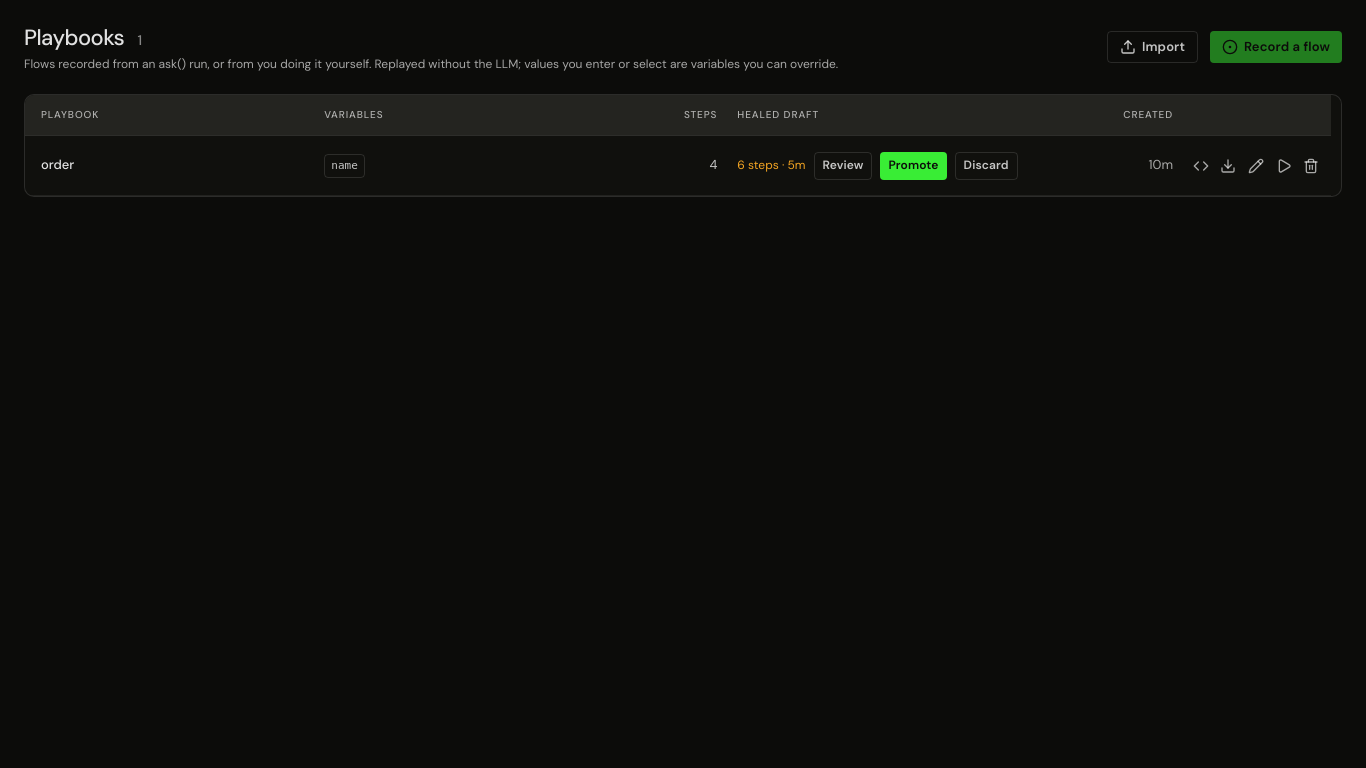
Test: PlaybooksTab › a failed rename keeps the dialog open and says why
Click the button named "Rename order". click: (1256, 166)
box: 1244,150 -> 1268,182
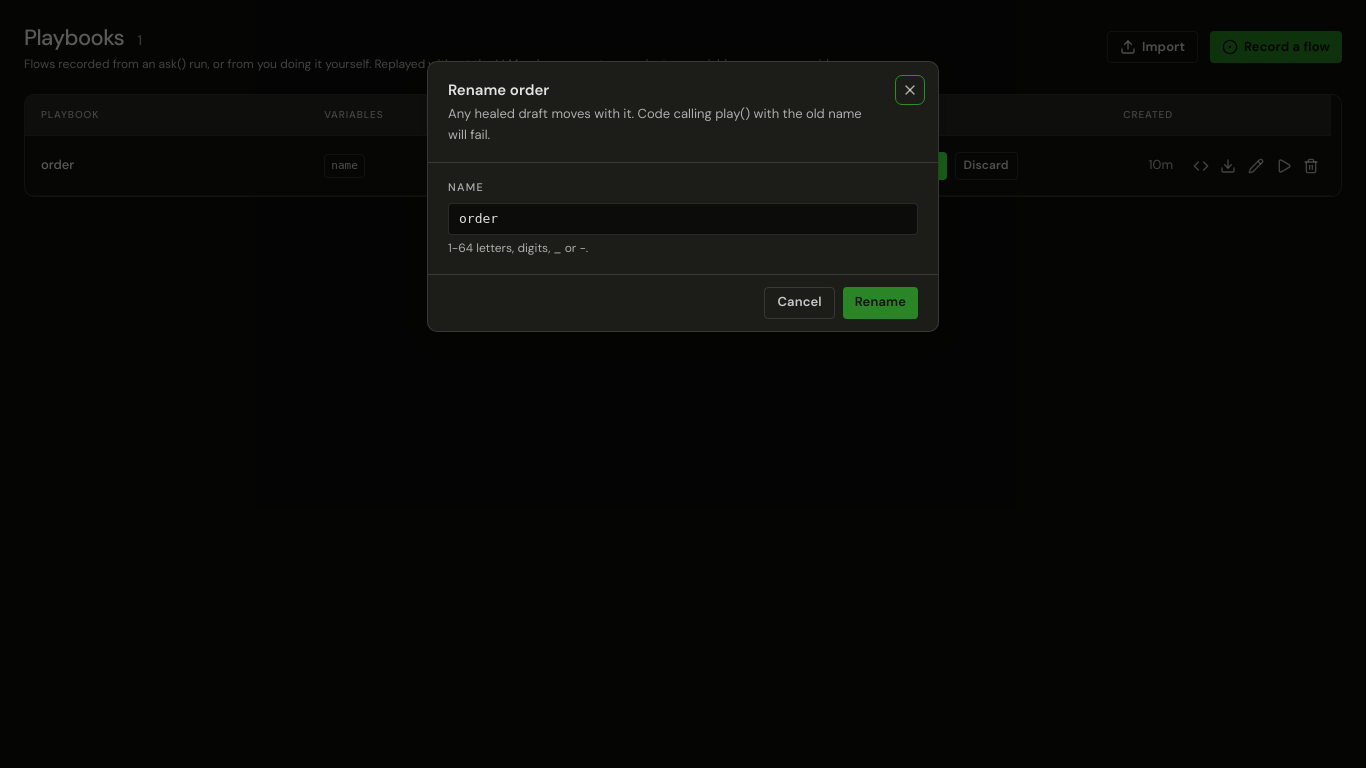
Type "2" into the field labelled "Name". click: (683, 219)
box: 448,203 -> 918,235
Then press Enter
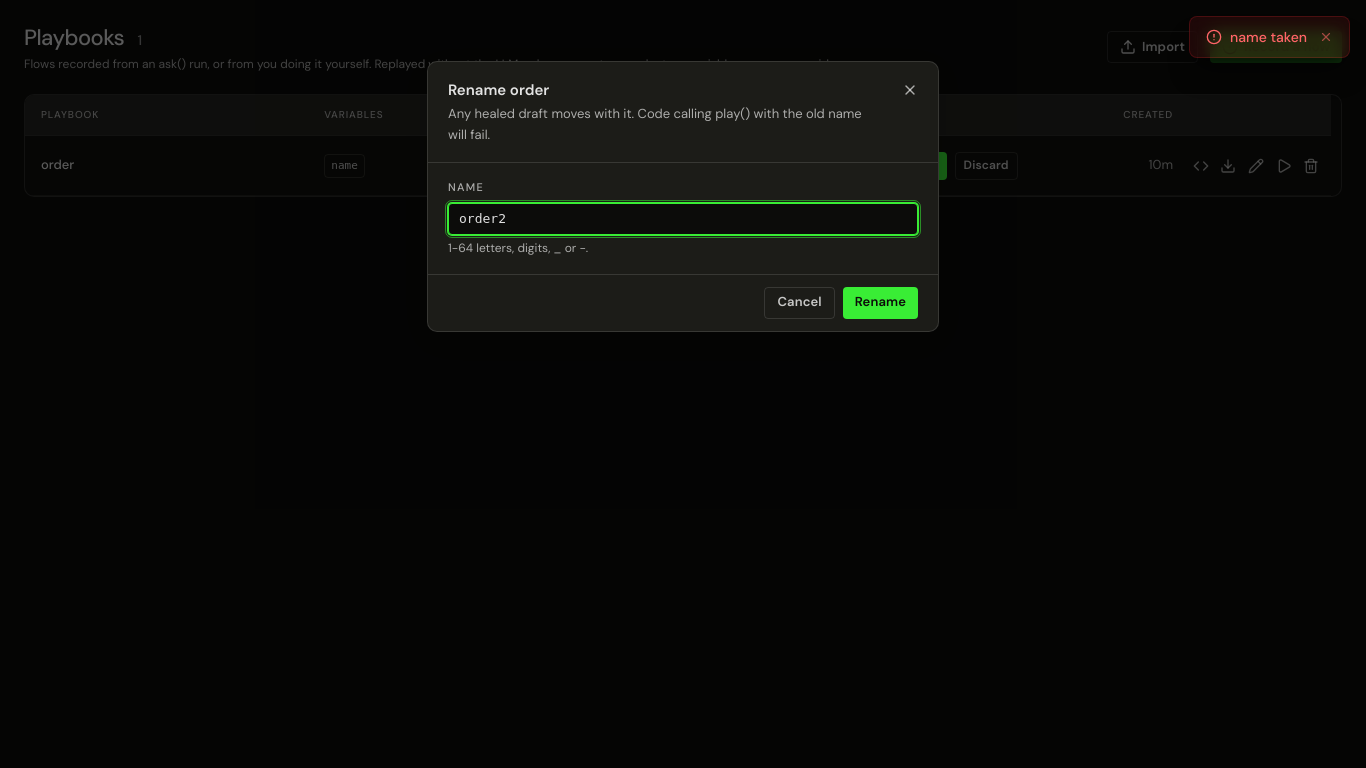
Check: the heading "Rename order" is shown, box 448,80 -> 549,100
Check: the text "name taken" is shown, box 1230,27 -> 1307,47
